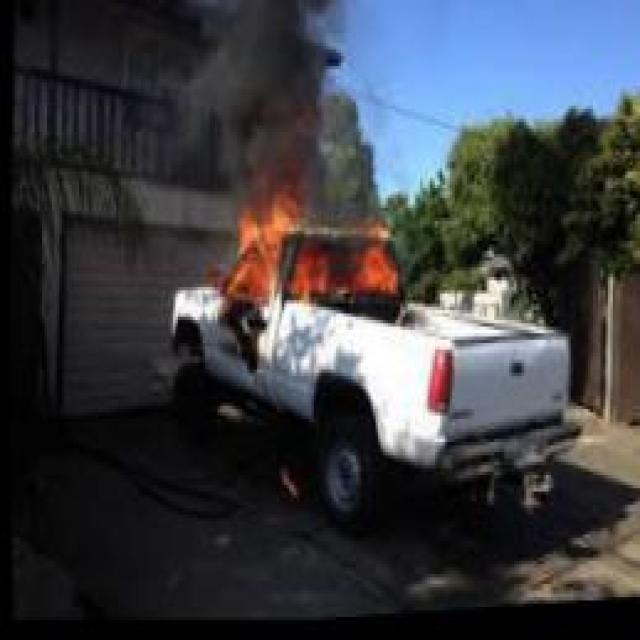Fire: (198, 172, 410, 344)
Smoke: (154, 0, 400, 195)
